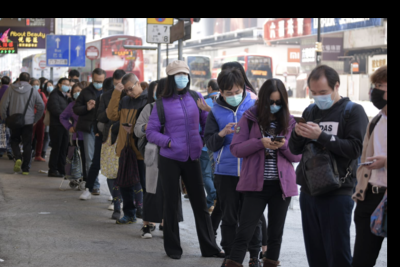with_mask: (310, 87, 335, 110), (371, 80, 387, 110), (224, 88, 243, 106), (266, 97, 284, 115), (175, 73, 190, 90), (93, 79, 104, 90), (61, 82, 70, 93), (72, 89, 81, 99), (46, 83, 54, 93), (31, 83, 41, 91)
without_mask: (124, 85, 139, 98)
